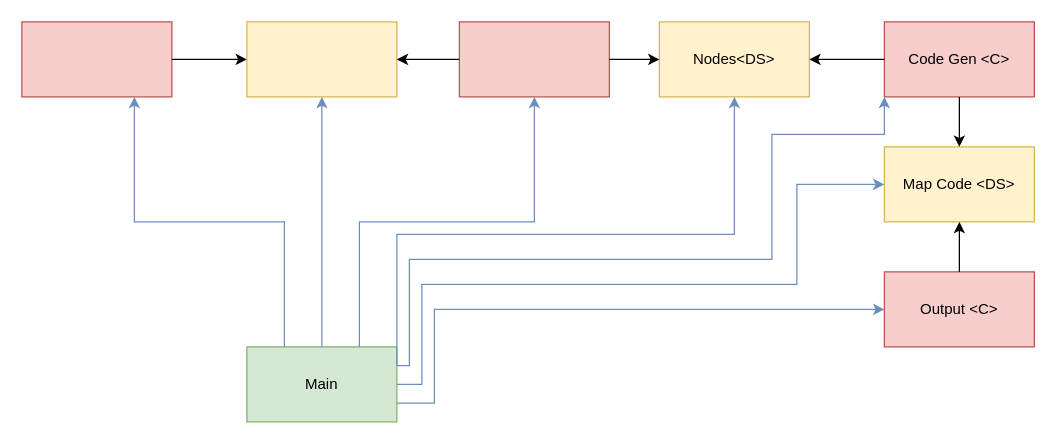
This 1056x444 diagram has some shape labels left out. The centre of each missing label's shape, as x and y in pixels:
"Input <C>" goes at [96,59].
"Input Data <DS>" goes at [321,59].
"Parser <C>" goes at [533,59].
